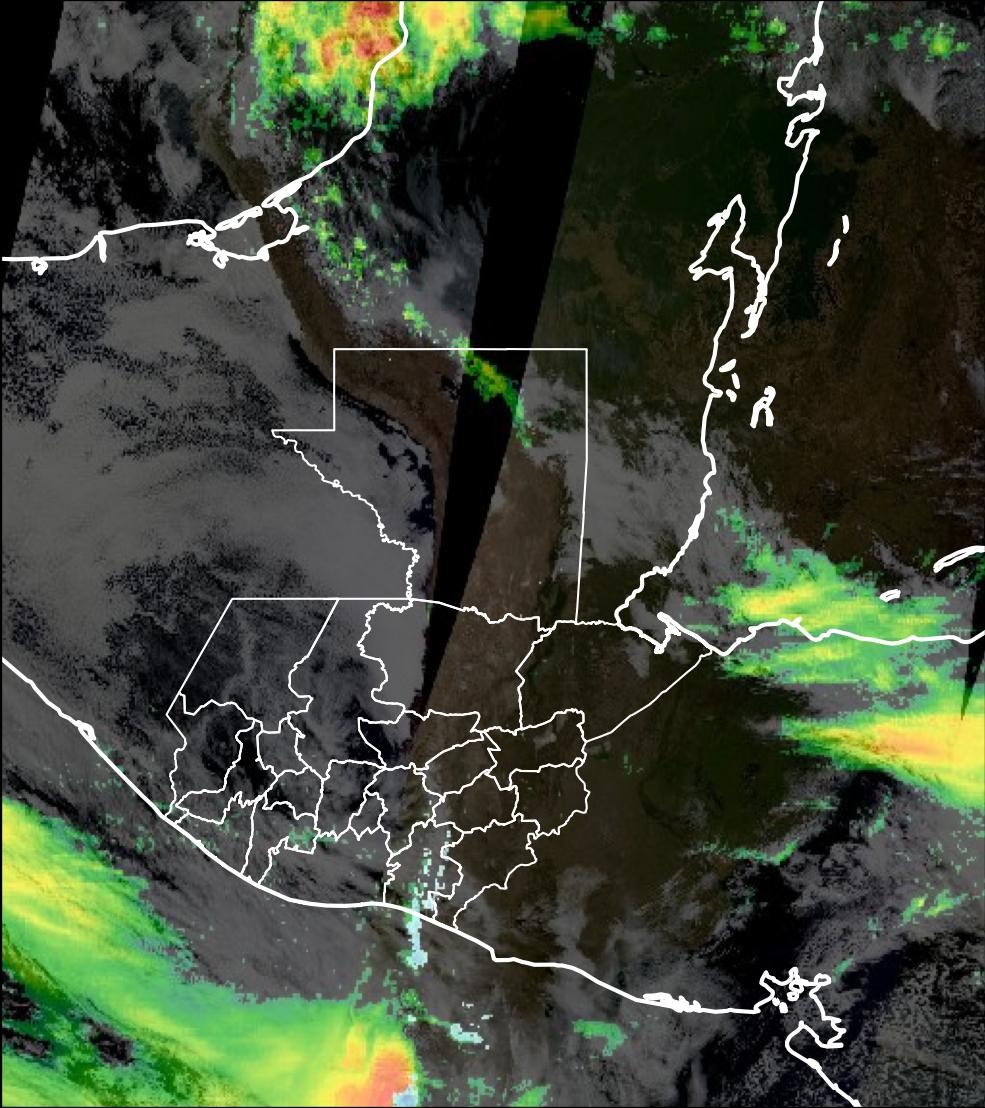precipitacion: (302, 1, 447, 109)
